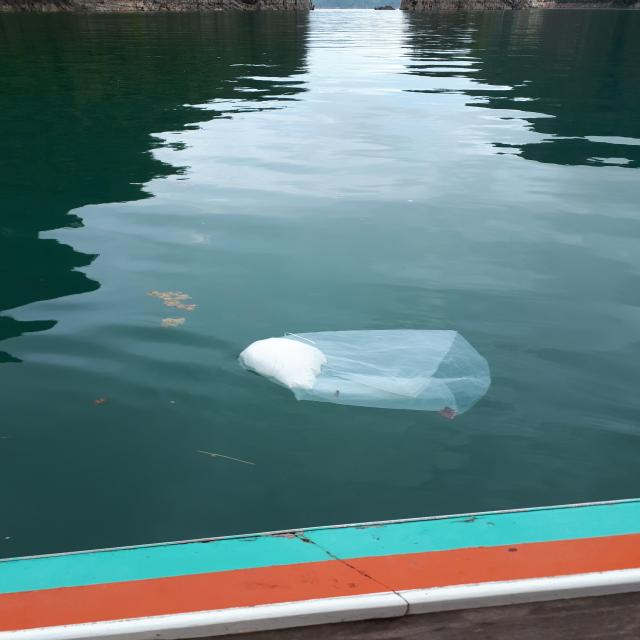litter: (439, 109, 563, 307)
